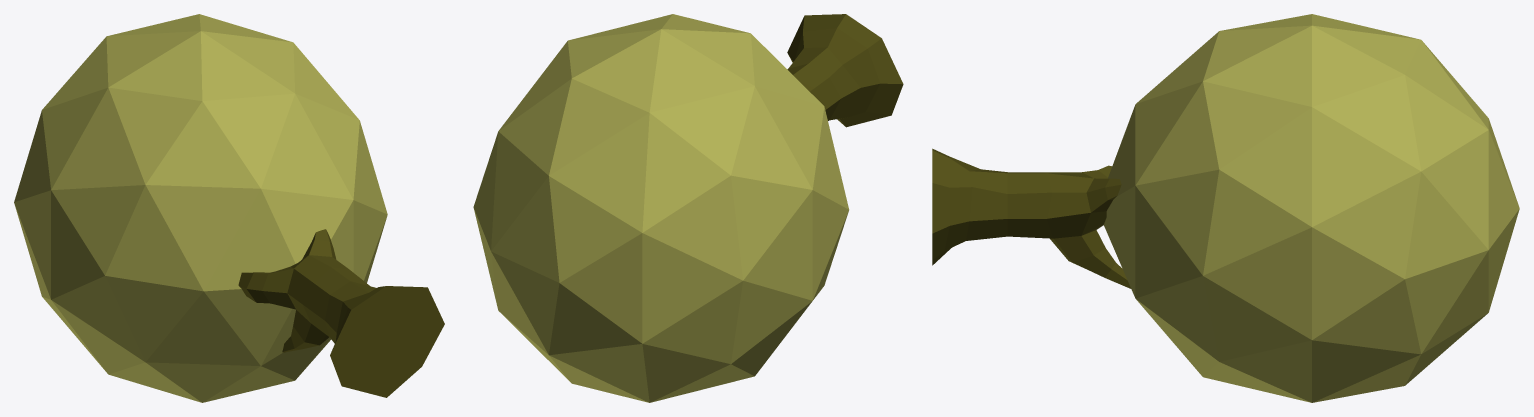
The model's file is OakTree_10.fbx.
The picture shows the model from 3 angles, left to right: view 1: azimuth 30°, elevation 25°; view 2: azimuth 150°, elevation 25°; view 3: azimuth 270°, elevation 25°; orthographic projection. The views are drawn at different scales.
Visible parts, largest first — view 1: OakTree_10; view 2: OakTree_10; view 3: OakTree_10.
Boxes of the visible parts, x1,y1,x2,y2 form: OakTree_10: (14, 14, 444, 402); OakTree_10: (473, 14, 903, 402); OakTree_10: (932, 14, 1519, 402).
Bounding box in the file's own units: 927 × 1050 × 1528.
